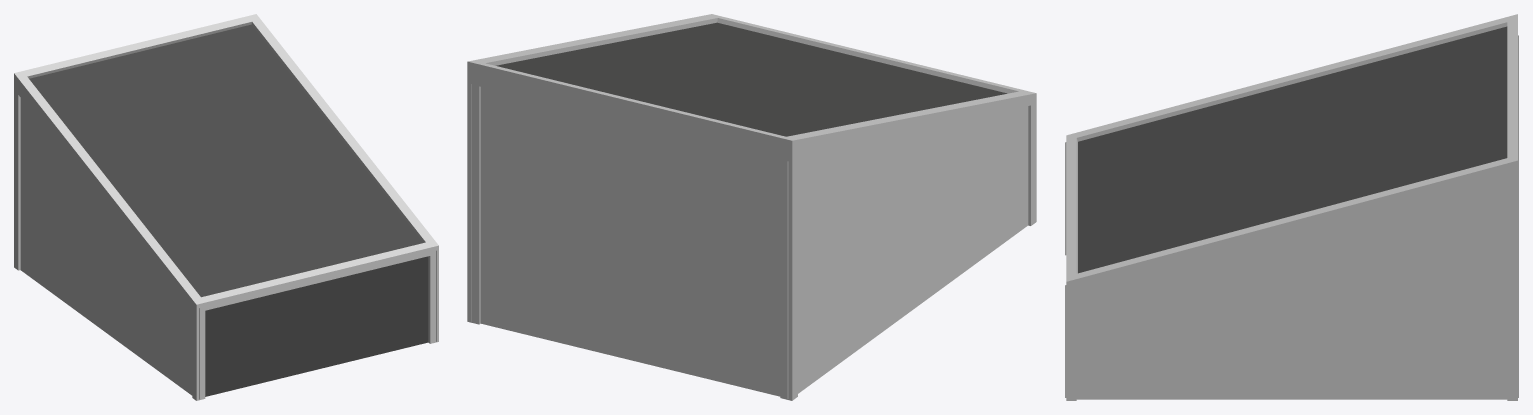
Rendered from DisplayCaseTop.fbx.
3 views of the same model, side by side, from view 1: azimuth 30°, elevation 25°; view 2: azimuth 150°, elevation 25°; view 3: azimuth 270°, elevation 25° (orthographic). The views are drawn at different scales.
Parts seen in each view (by area): view 1: Cube; view 2: Cube; view 3: Cube.
Boxes of the visible parts, box(x1,y1,x2,y2) form: Cube: box(14, 14, 438, 400); Cube: box(467, 14, 1036, 400); Cube: box(1065, 14, 1518, 400).
Bounding box in the file's own units: 886 × 679 × 1161.
